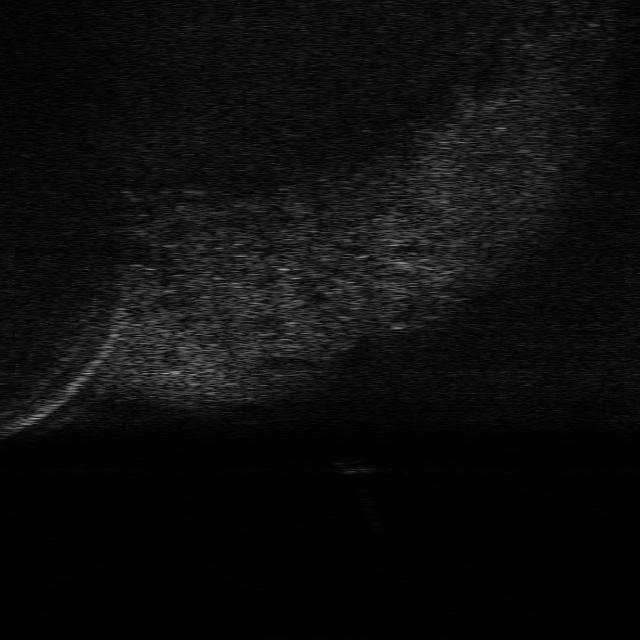cube: (332, 458, 376, 474)
